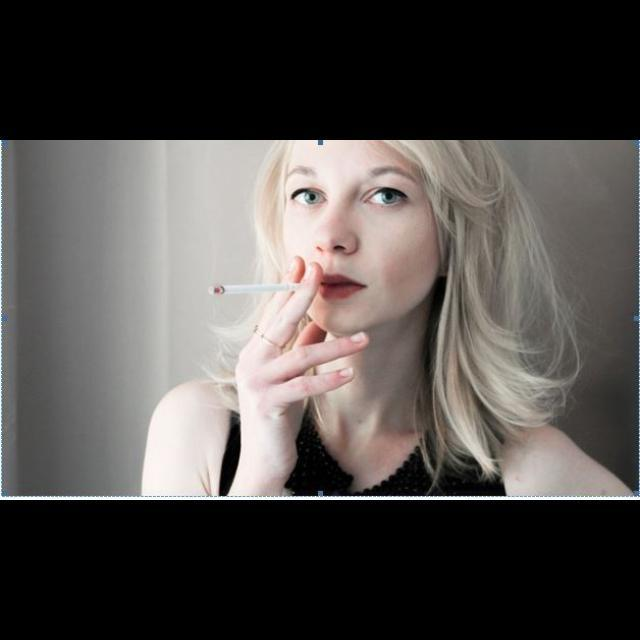rokok: (205, 277, 321, 301)
